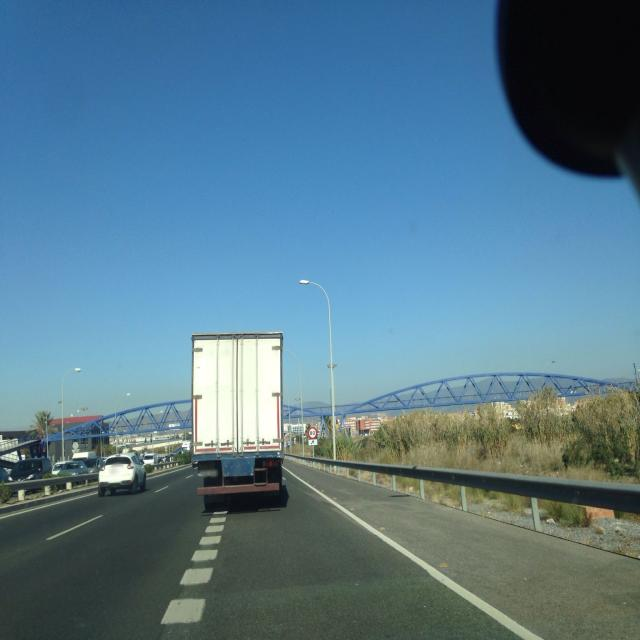car: (98, 454, 146, 495), (8, 457, 53, 482), (141, 453, 161, 467)
